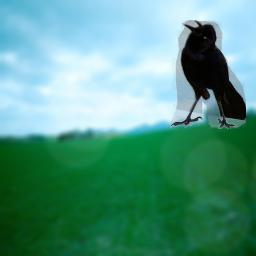Crow: (170, 20, 246, 129)
